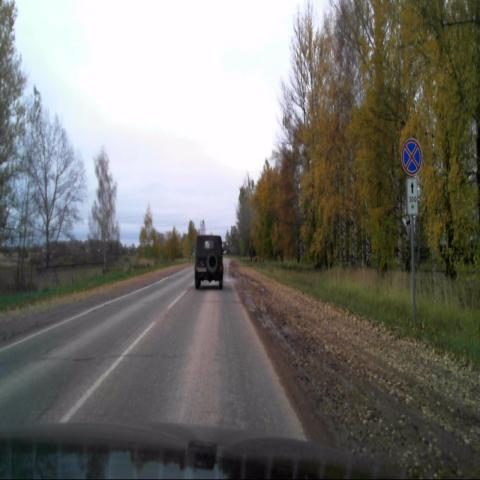3_27: (402, 139, 422, 176)
8_2_2: (406, 178, 418, 215)
